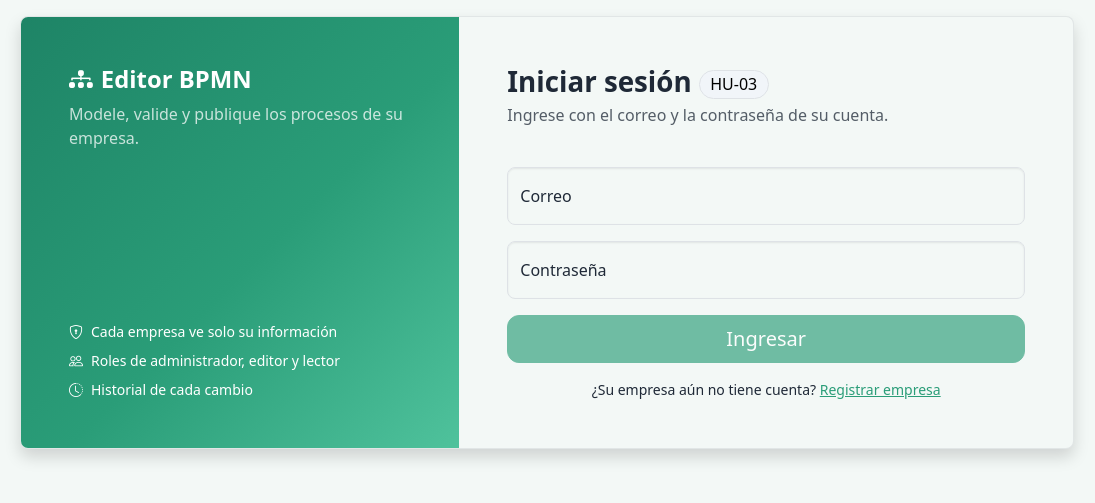
Test: LoginComponent (HU-03) › valida el formato del correo
Step 1. Type "no-es-correo" into the field labelled "Correo" → coordinates (766, 196), box x1=507 y1=167 x2=1025 y2=225
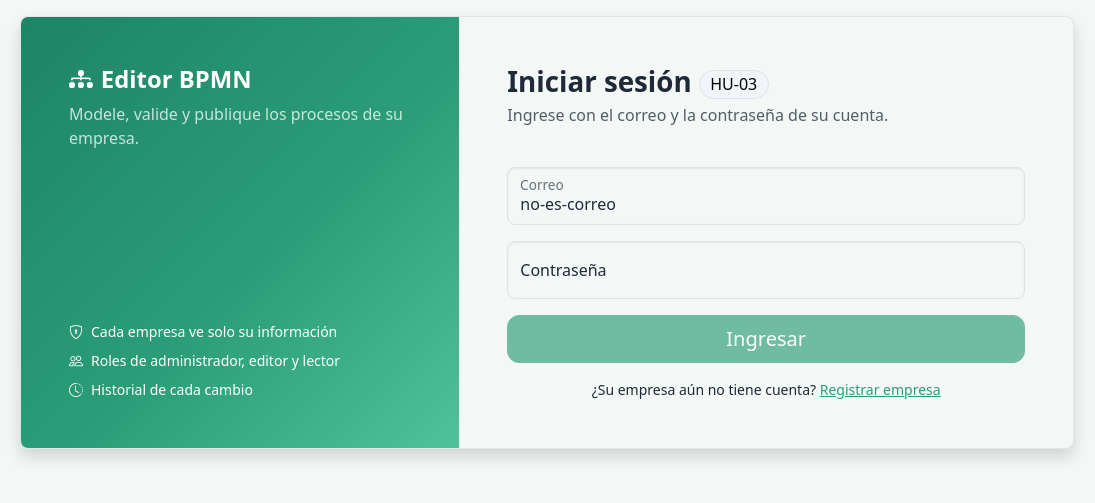
Step 2. Leave the field labelled "Correo", box x1=507 y1=167 x2=1025 y2=225
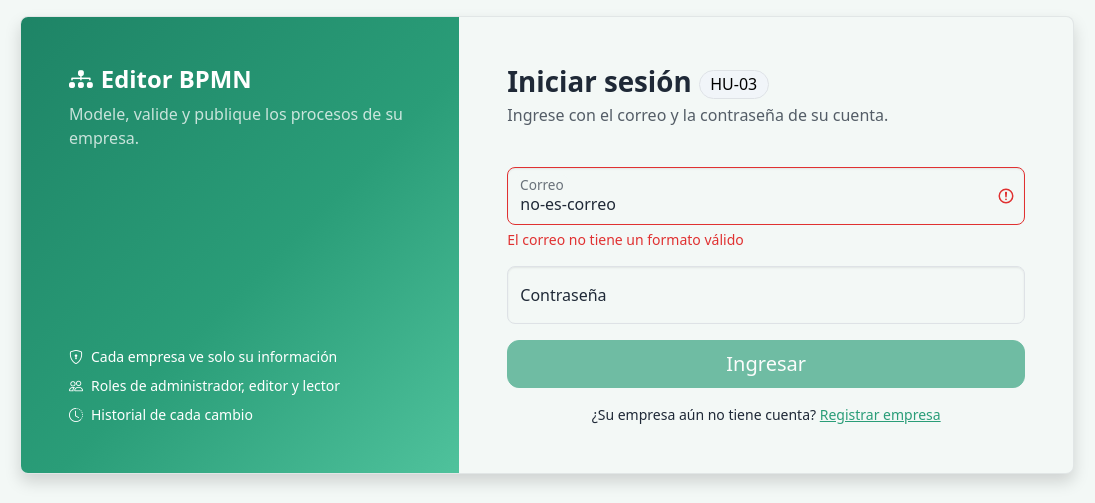
Expected: the text "El correo no tiene un formato válido" is shown, x1=507 y1=230 x2=744 y2=249
